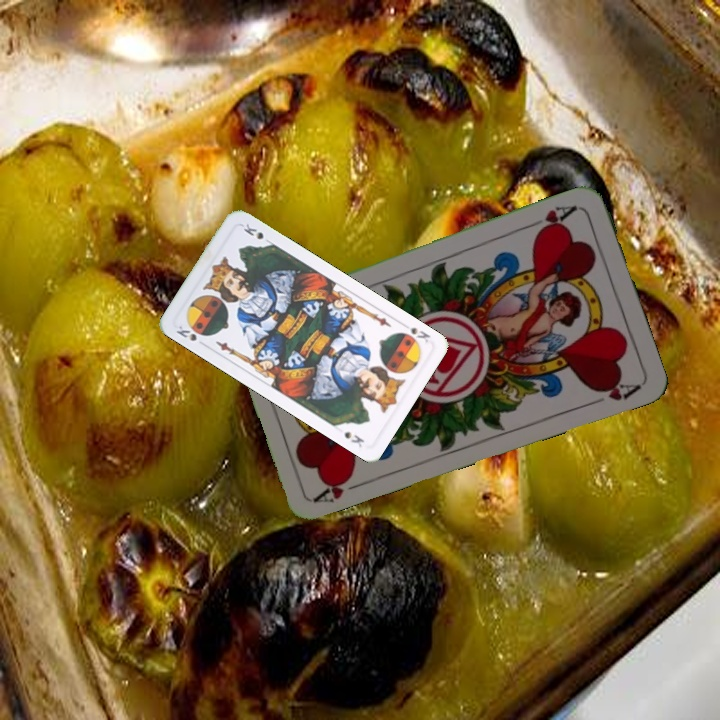HA: (311, 469, 369, 506), (524, 201, 580, 237)
SK: (395, 318, 433, 346), (172, 321, 209, 349)
